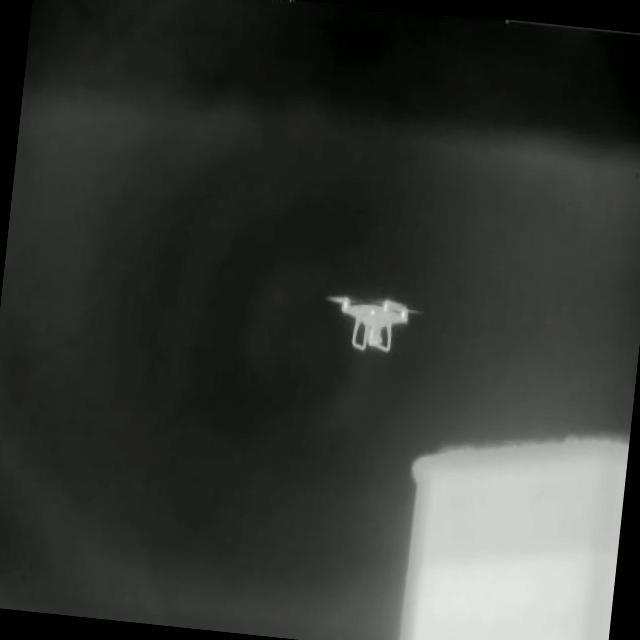DRONE: (320, 289, 426, 353)
